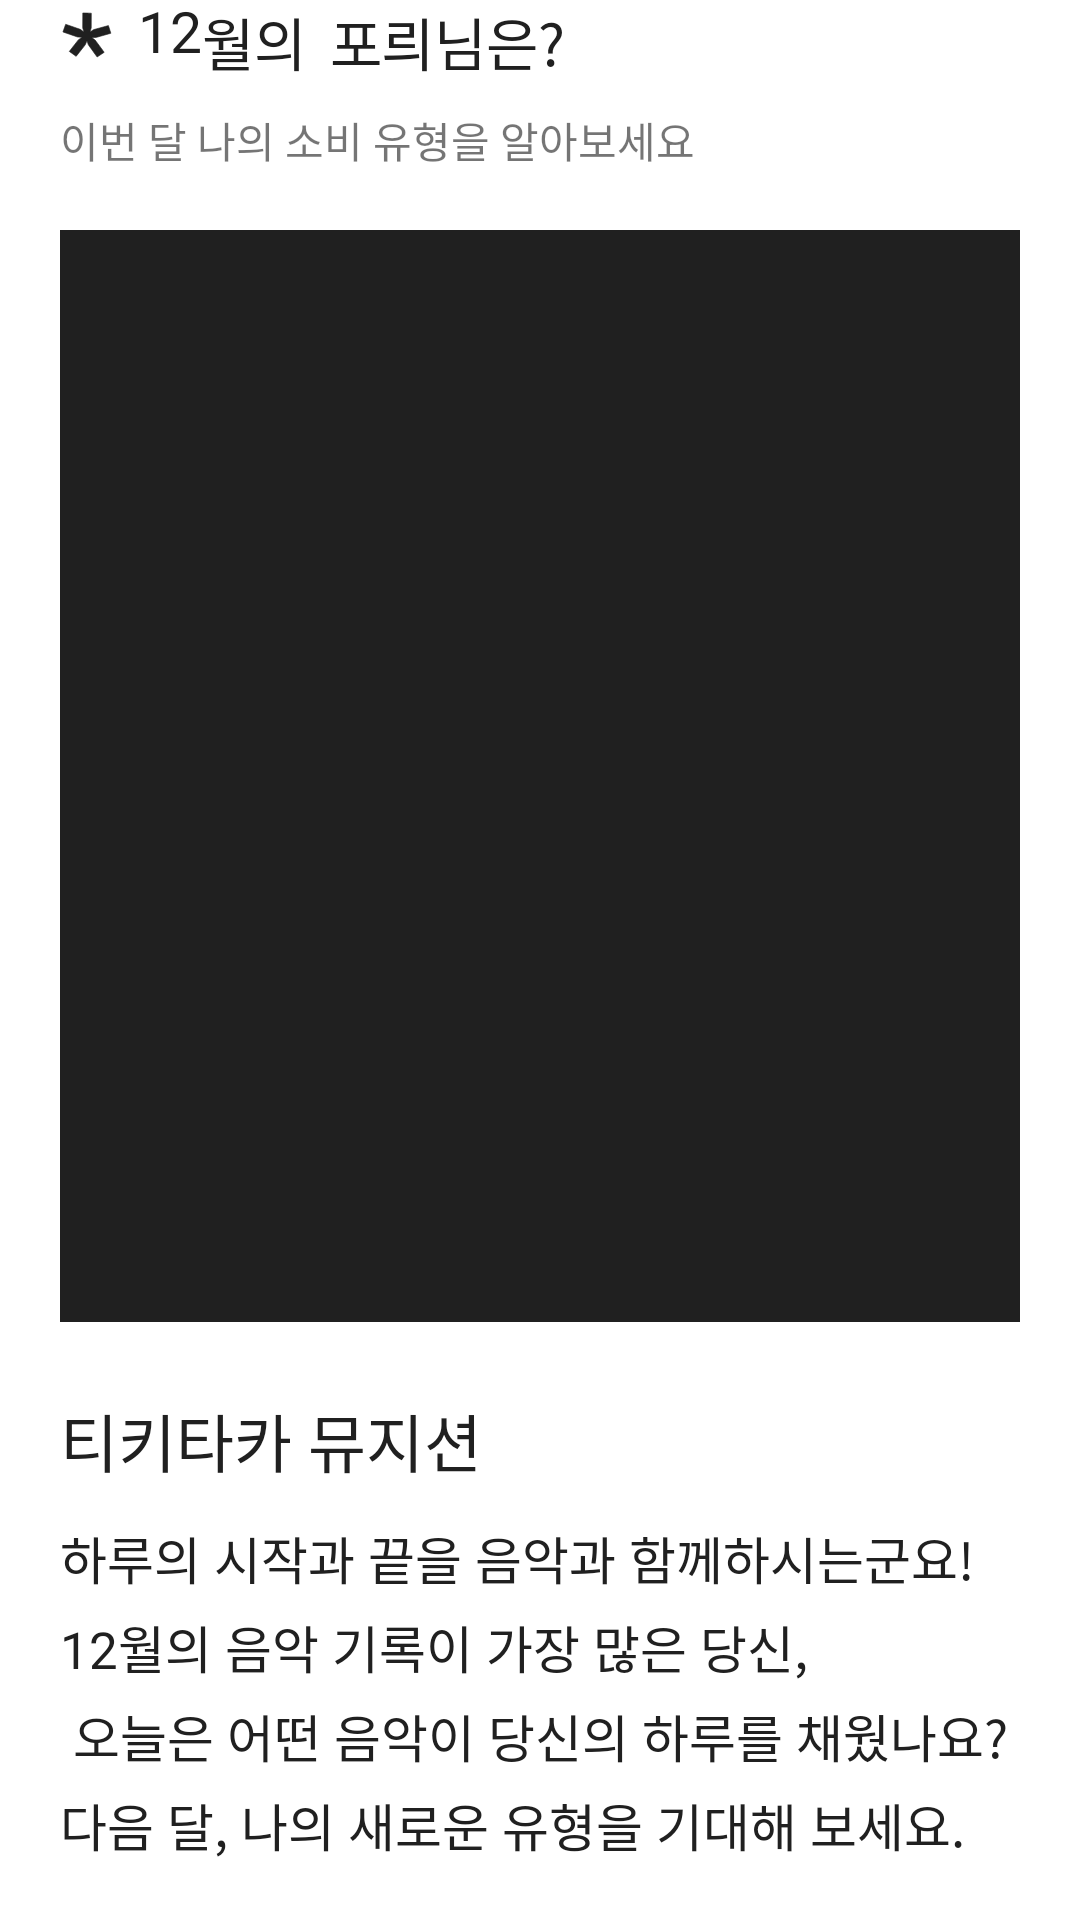

Point at icon controls on the screen. Image size 1080 × 1920, points as (x,y).
star: (86,35)
